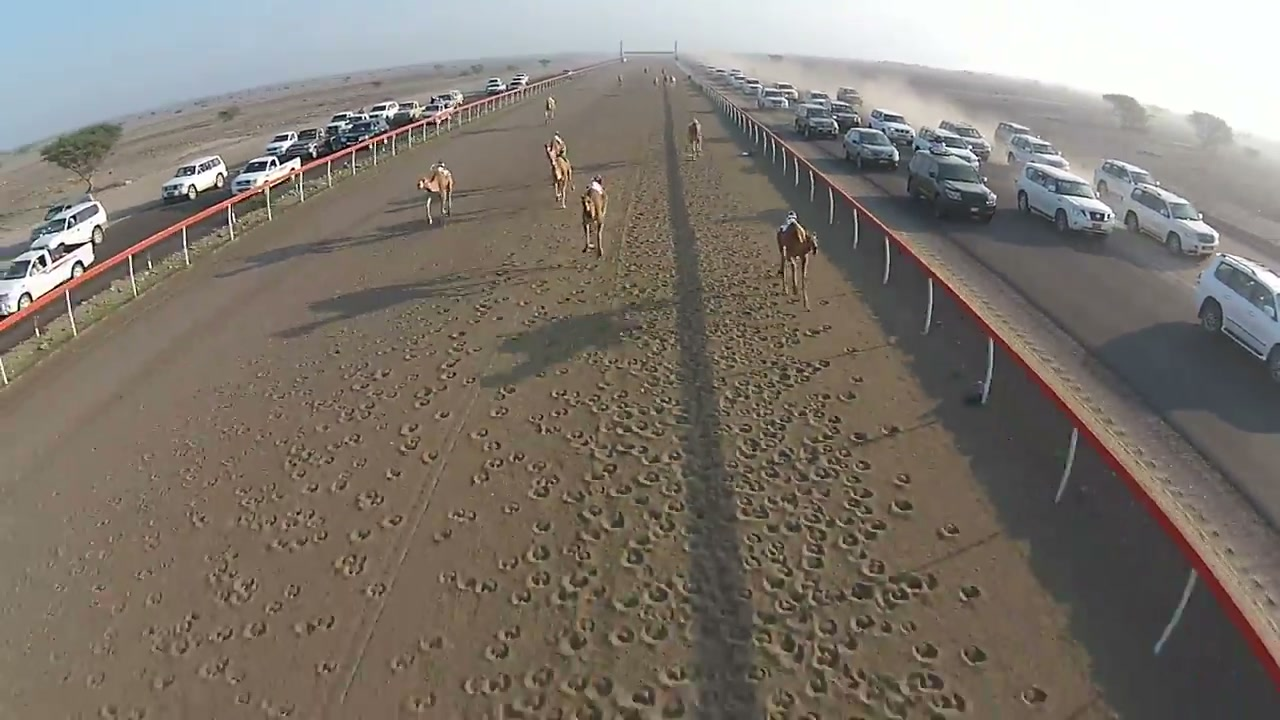animal_footprint: (16, 90, 1099, 717)
